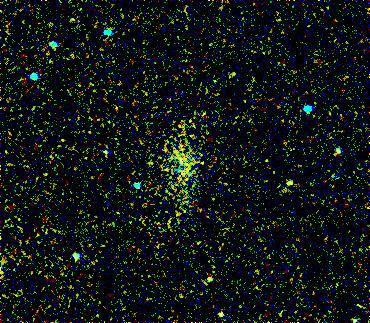star: (277, 165, 307, 195)
